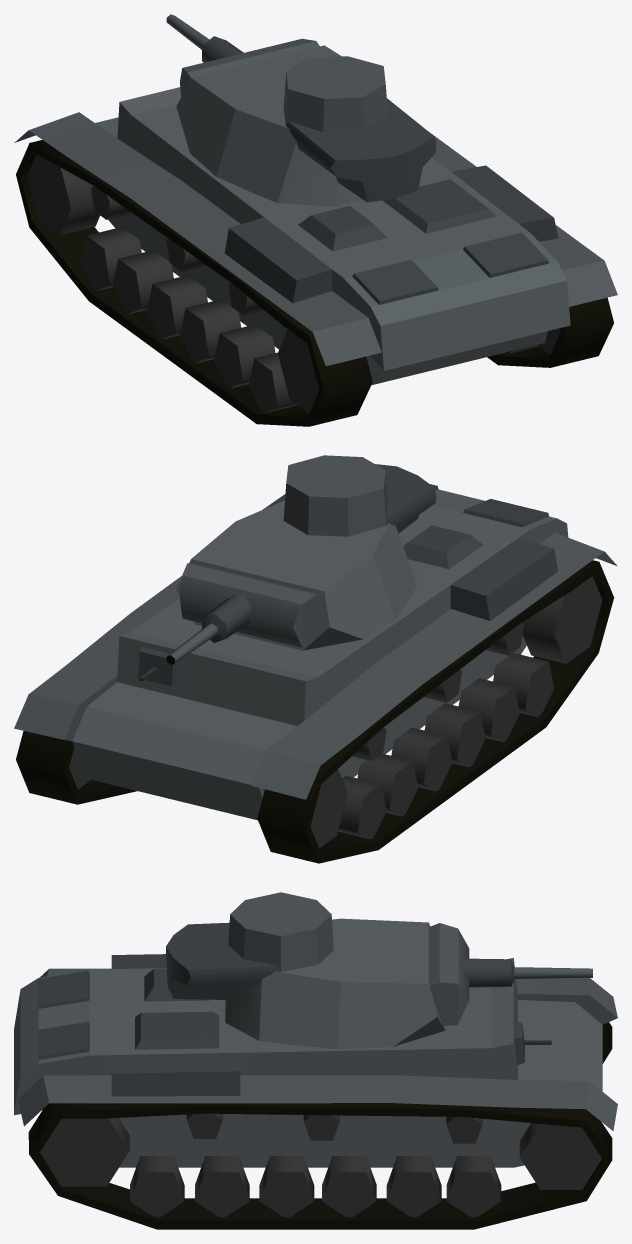
The model's file is tank_edited_2.obj.
3 views of the same model, one above another, from view 1: azimuth 30°, elevation 25°; view 2: azimuth 150°, elevation 25°; view 3: azimuth 270°, elevation 25° (orthographic). The views are drawn at different scales.
Visible parts, largest first — view 1: Hull_Cube_001, Gun_Cylinder_001; view 2: Hull_Cube_001, Gun_Cylinder_001; view 3: Hull_Cube_001, Gun_Cylinder_001.
Boxes of the visible parts, <box> form: Hull_Cube_001: <box>14,87,617,426</box>; Gun_Cylinder_001: <box>166,14,436,206</box>; Hull_Cube_001: <box>14,484,616,863</box>; Gun_Cylinder_001: <box>166,455,436,664</box>; Hull_Cube_001: <box>14,954,617,1229</box>; Gun_Cylinder_001: <box>166,892,592,1049</box>.
Size of the model in its own units: 2.25 by 1.94 by 4.27.
